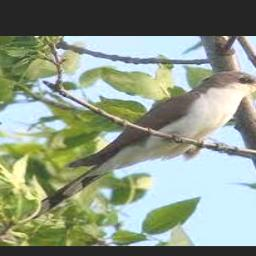Cuckoo: (24, 71, 256, 221)
